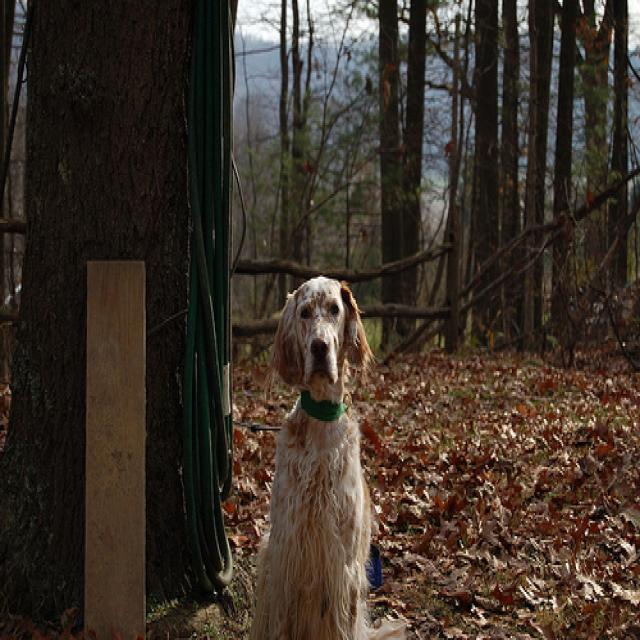dog-english_setter: (247, 269, 371, 636)
